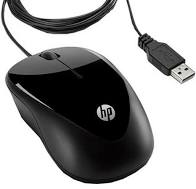hp-mouse-X1000: (1, 1, 194, 184)
